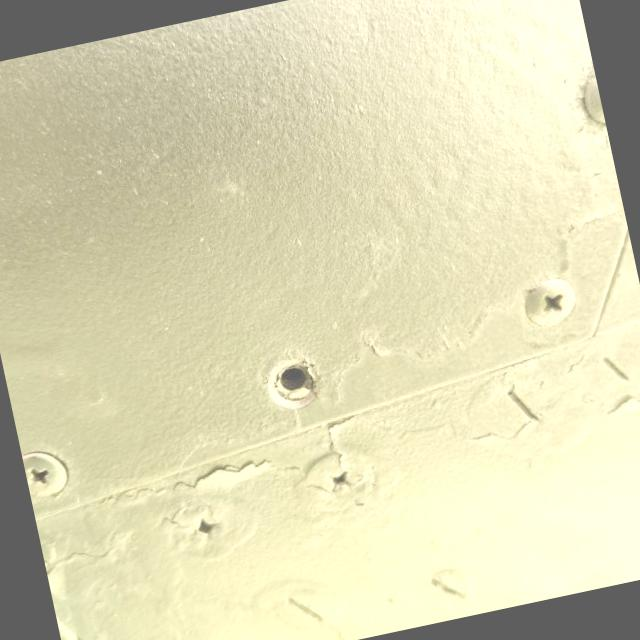Missing Fastener: (264, 354, 320, 412)
